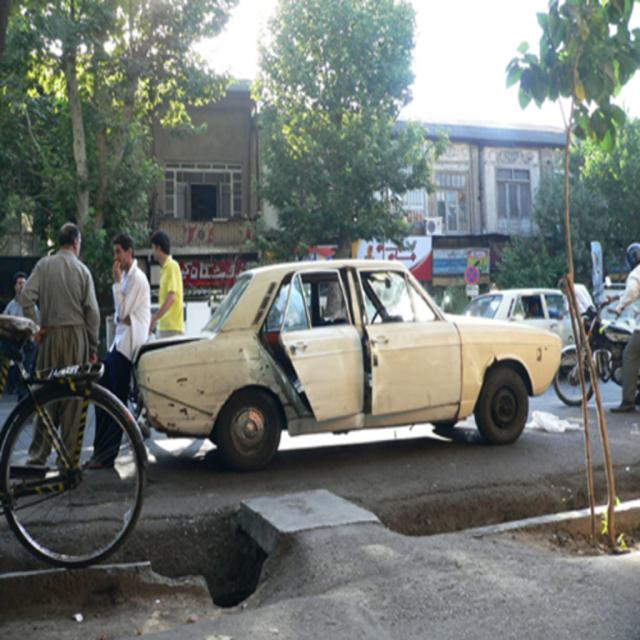car: (71, 248, 593, 485)
